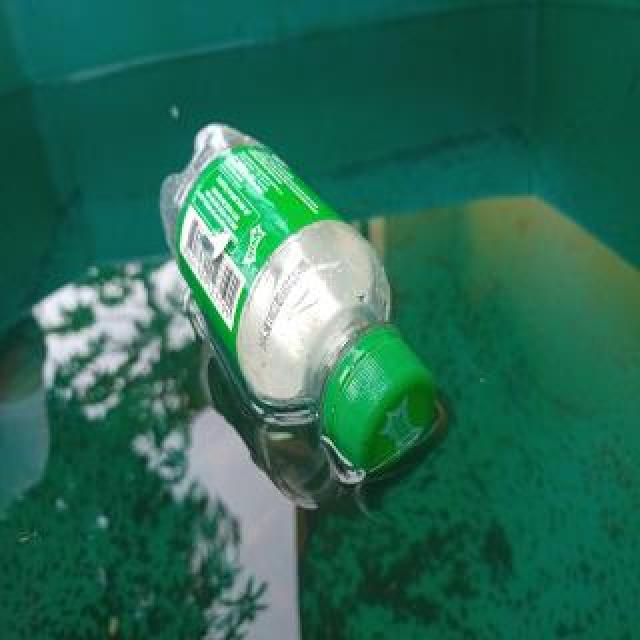Plastic Bottle: (153, 121, 439, 473)
